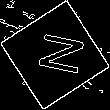N_W: (26, 30, 84, 80)
